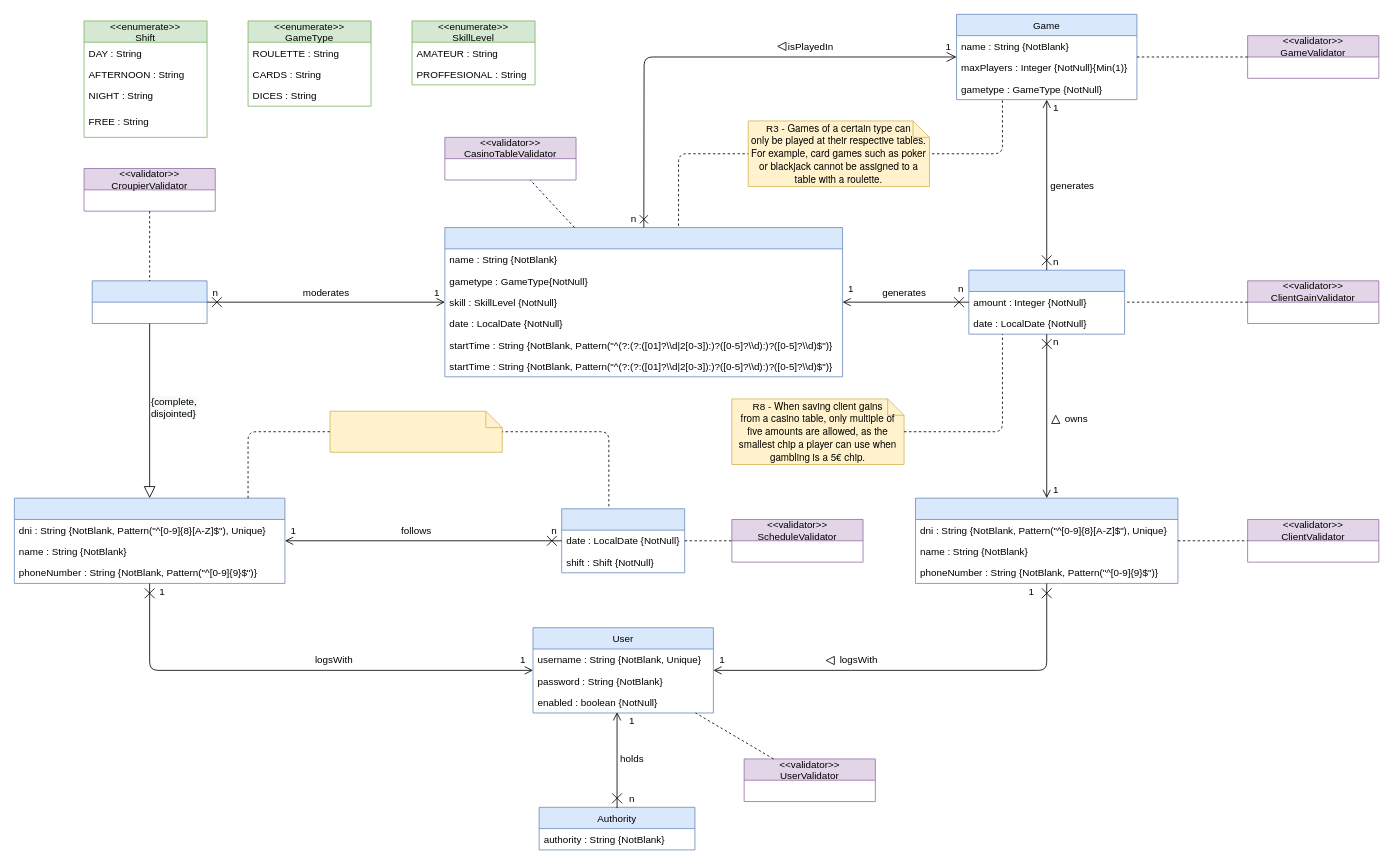
Image size: 1393x867. Some labels were removed from this diagram. The shapes that lost their labels are listed below. From the top down, each one's box as (x1, y1, x2, y2) in pixels, then its label:
(91, 280, 207, 323): Croupier
(444, 227, 843, 377): CasinoTable
(968, 269, 1125, 334): ClientGain
(329, 410, 502, 452): R7 - Employees can only have one schedule assigned per day.
(14, 497, 285, 583): Employee
(561, 508, 685, 573): Schedule
(915, 497, 1178, 583): Client
